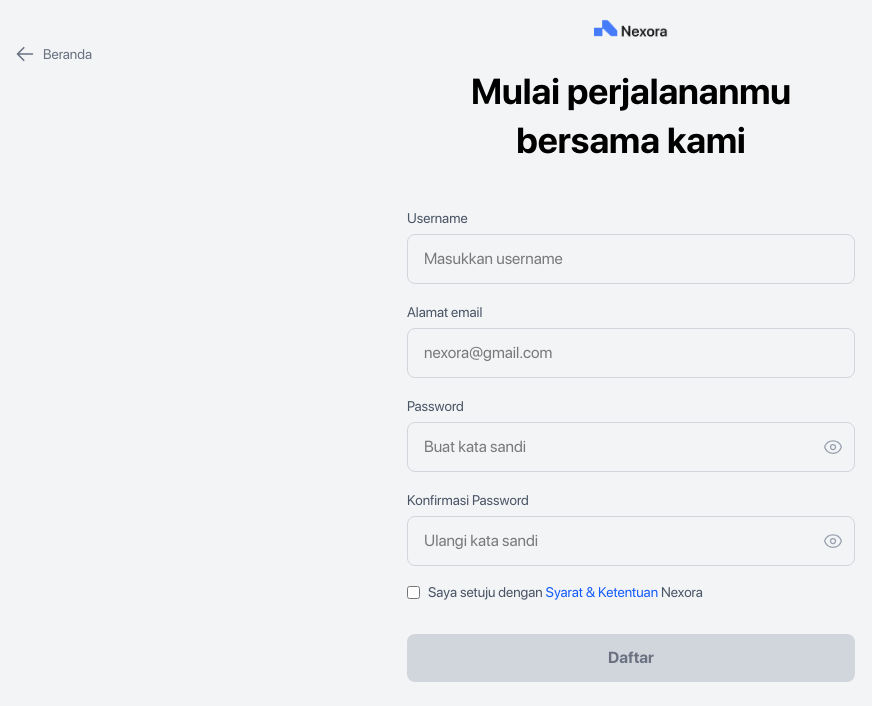
Test: Register Component Error Handling › should display a user-friendly message for generic Validation error
Type "kevin" into the field with placeholder "Masukkan username" at (631,258), box [407, 234, 855, 284]
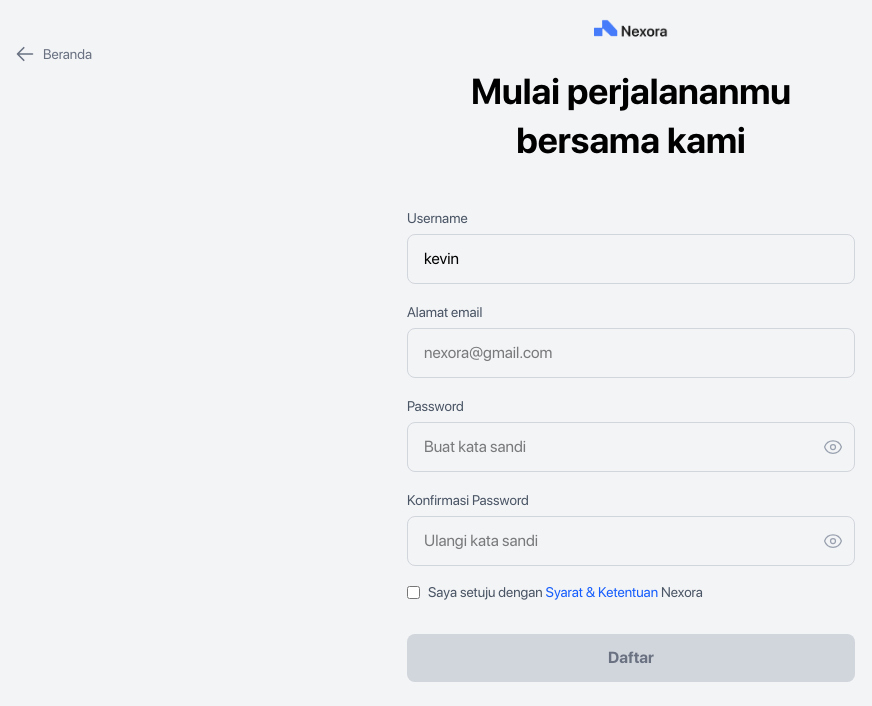
Type "kevin@gmail.com" into the field with placeholder "nexora@gmail.com" at (631,352), box [407, 328, 855, 378]
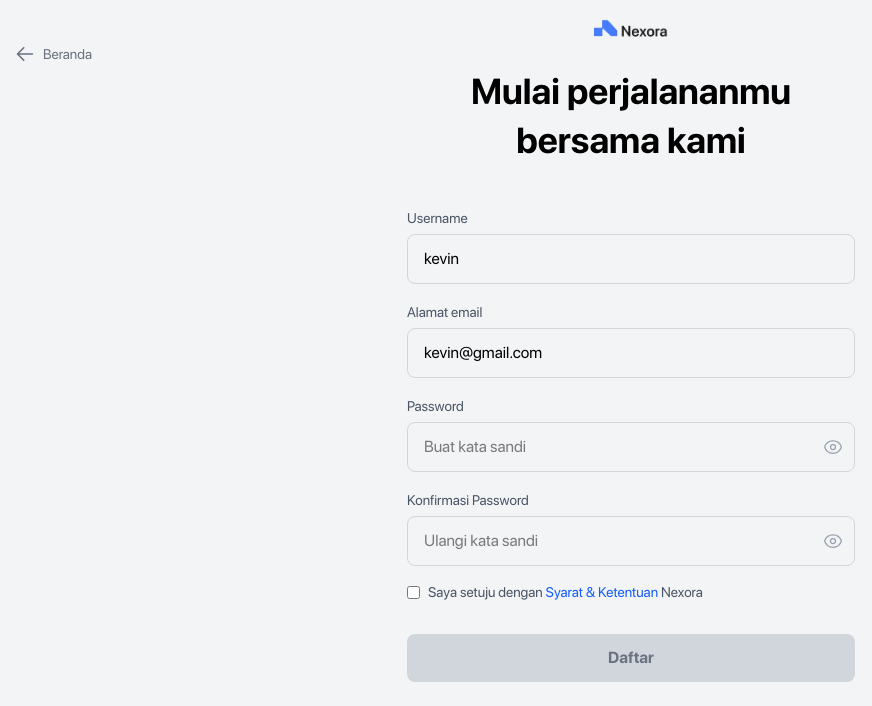
Type "password123" into the password field with placeholder "Buat kata sandi" at (631,446), box [407, 422, 855, 472]
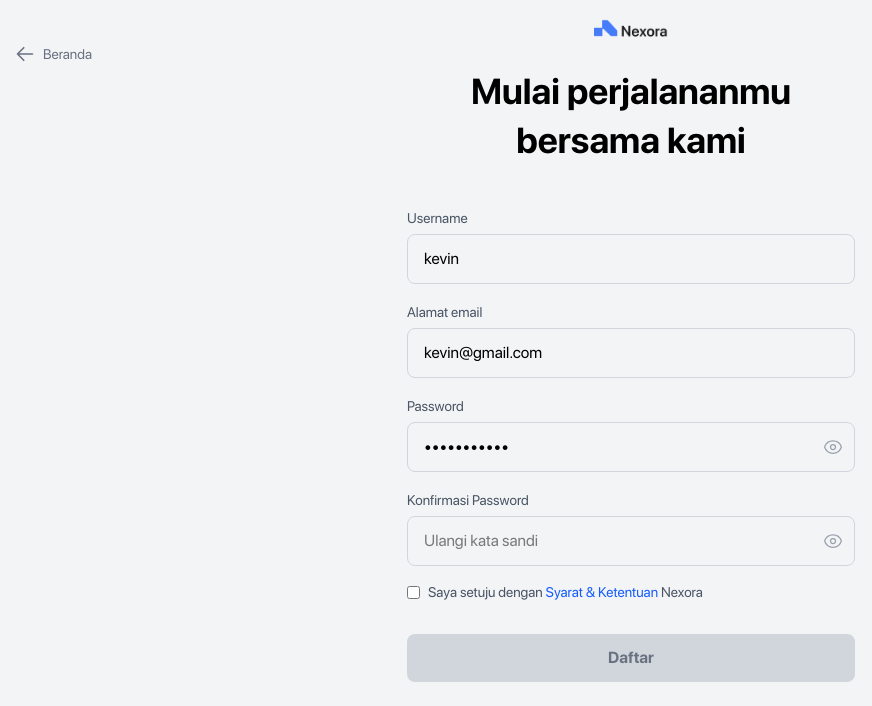
Type "password123" into the password field with placeholder "Ulangi kata sandi" at (631,540), box [407, 516, 855, 566]
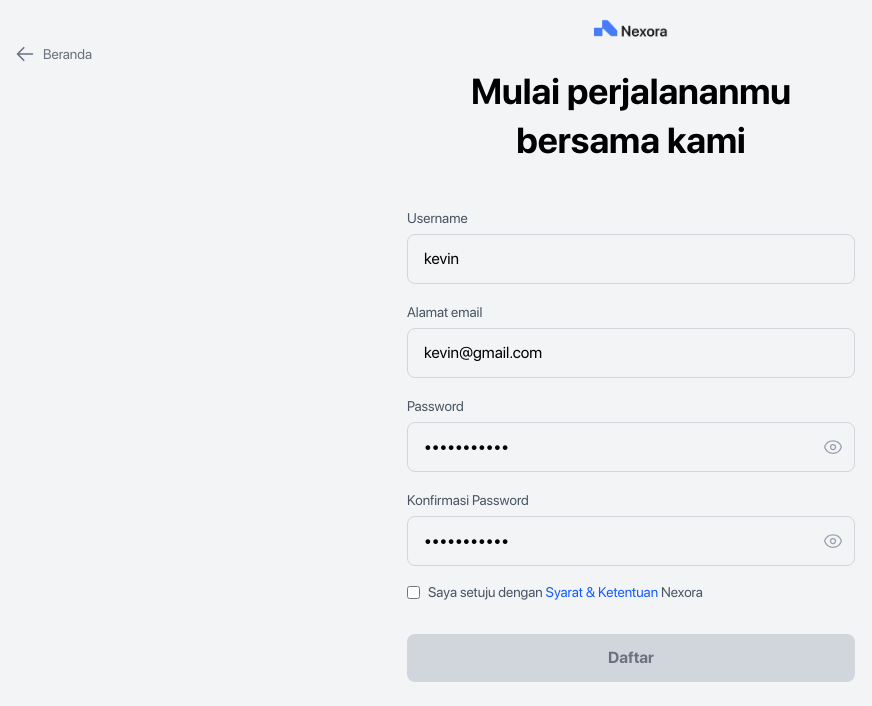
Click the checkbox at (414,592), box [407, 586, 420, 598]
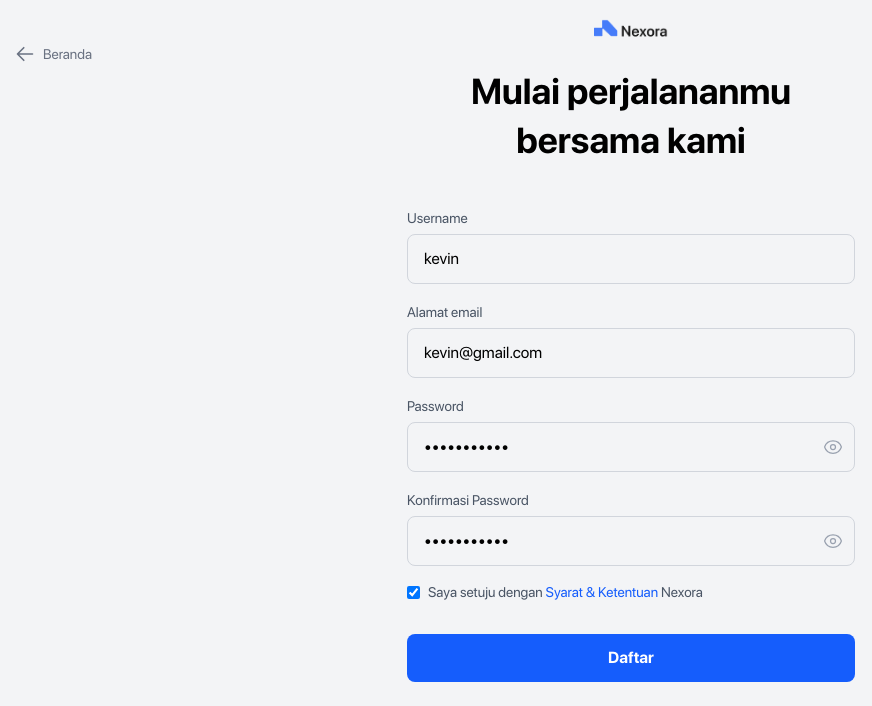
Click the button "Daftar" at (631,658), box [407, 634, 855, 682]
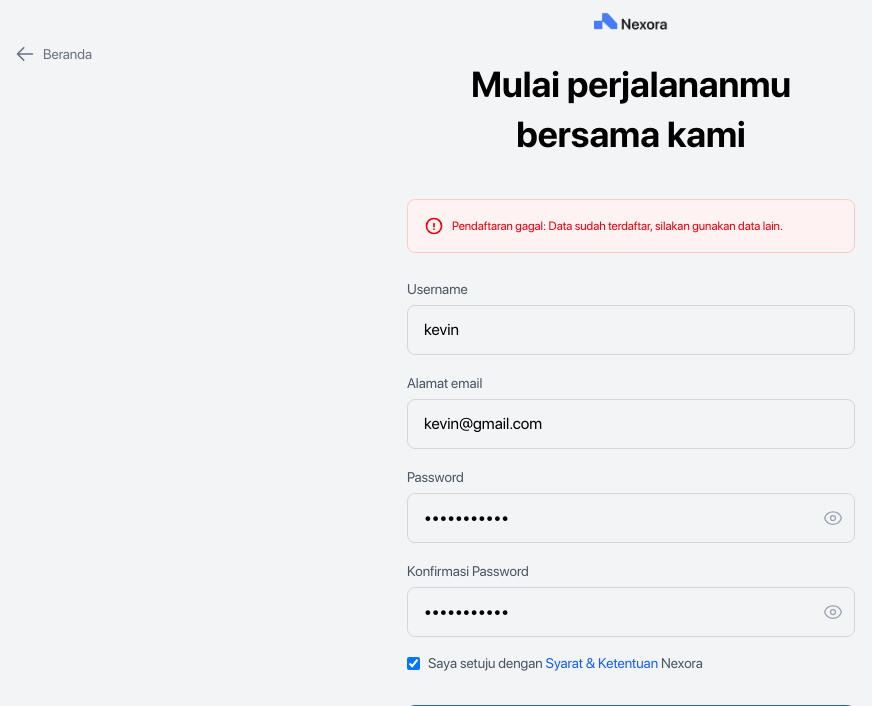
Expected: the text "Pendaftaran gagal: Data sudah terdaftar, silakan gunakan data lain." is shown, [407, 199, 855, 253]
